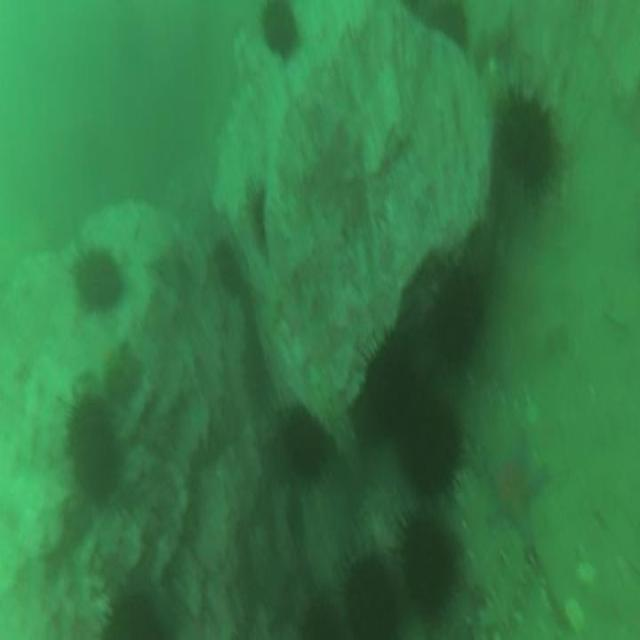echinus: (400, 395, 460, 503), (499, 96, 556, 198), (67, 403, 121, 506), (401, 526, 458, 610), (343, 556, 398, 640), (436, 274, 484, 366), (367, 335, 413, 425), (284, 410, 326, 480), (74, 253, 120, 310), (261, 2, 297, 55), (300, 602, 342, 640)
holothurian: (476, 548, 526, 638)
starfish: (483, 433, 542, 544)
